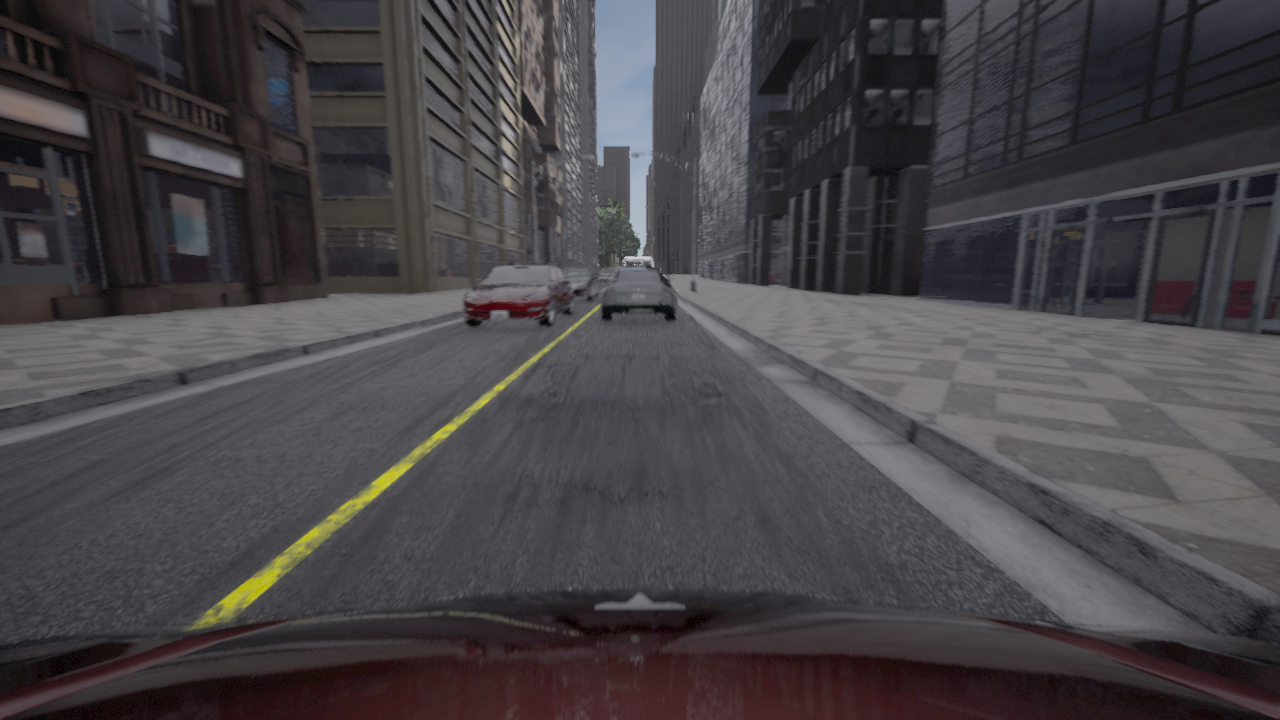cyclist: (0, 588, 1279, 719), (462, 263, 573, 326), (600, 268, 676, 320), (560, 267, 599, 300), (620, 256, 657, 268), (594, 267, 616, 285)
